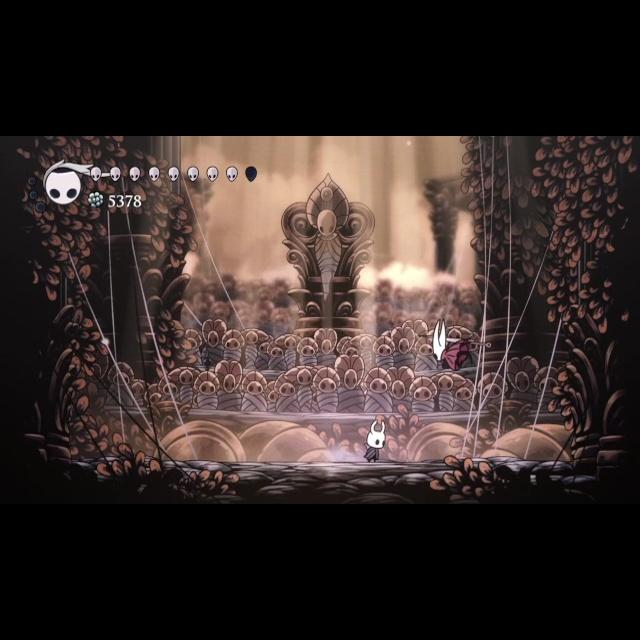EnemyLeadIn: (418, 317, 494, 381)
Player: (356, 420, 390, 464)
